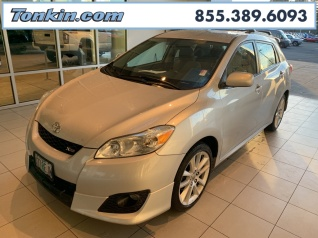Toyota Prius: (26, 28, 292, 226)
